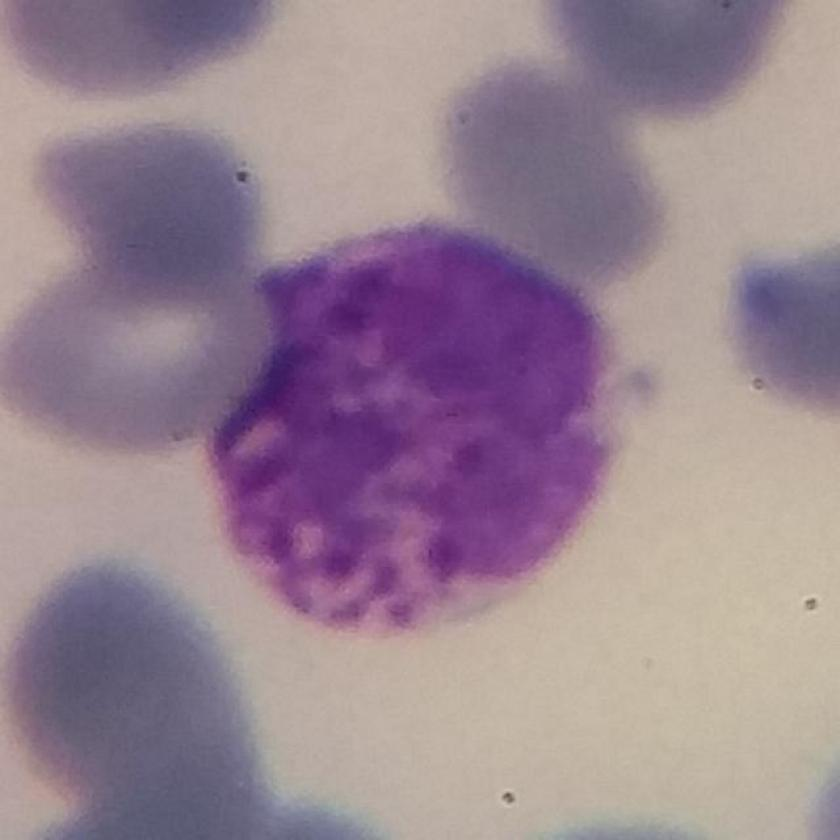basophil: (210, 214, 643, 642)
